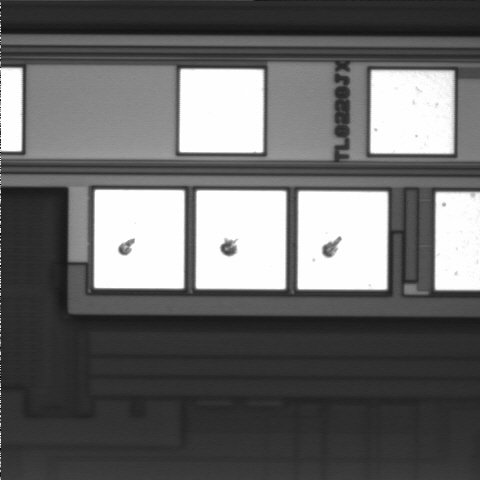pad: (94, 190, 184, 289), (196, 190, 286, 289), (298, 191, 388, 290), (370, 70, 454, 154), (180, 69, 263, 153)
